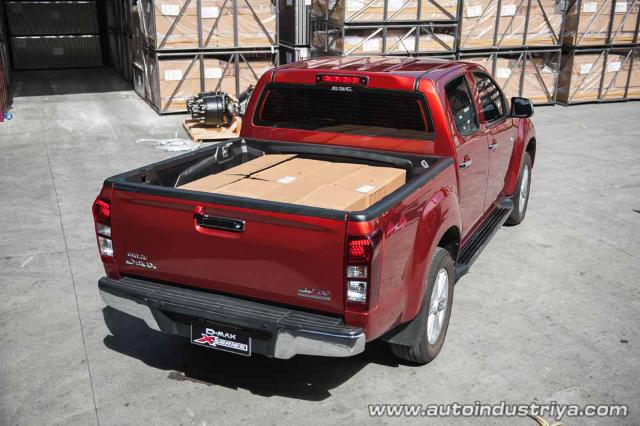pickup-truck: (86, 54, 542, 362)
